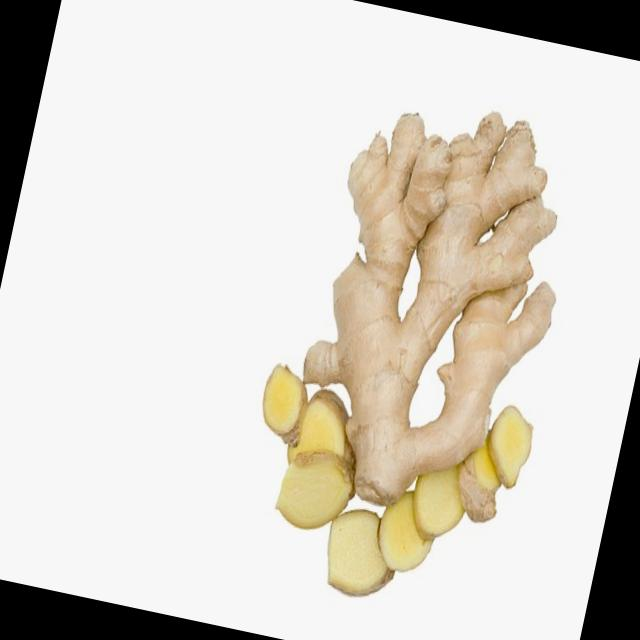ginger-root: (281, 72, 596, 512)
